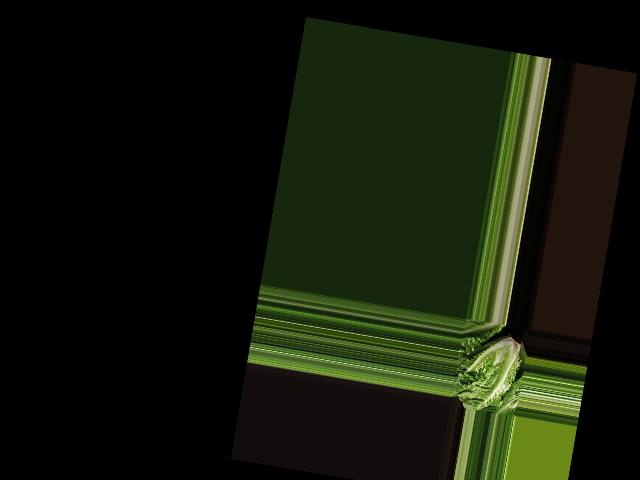lettuce: (454, 323, 531, 416)
